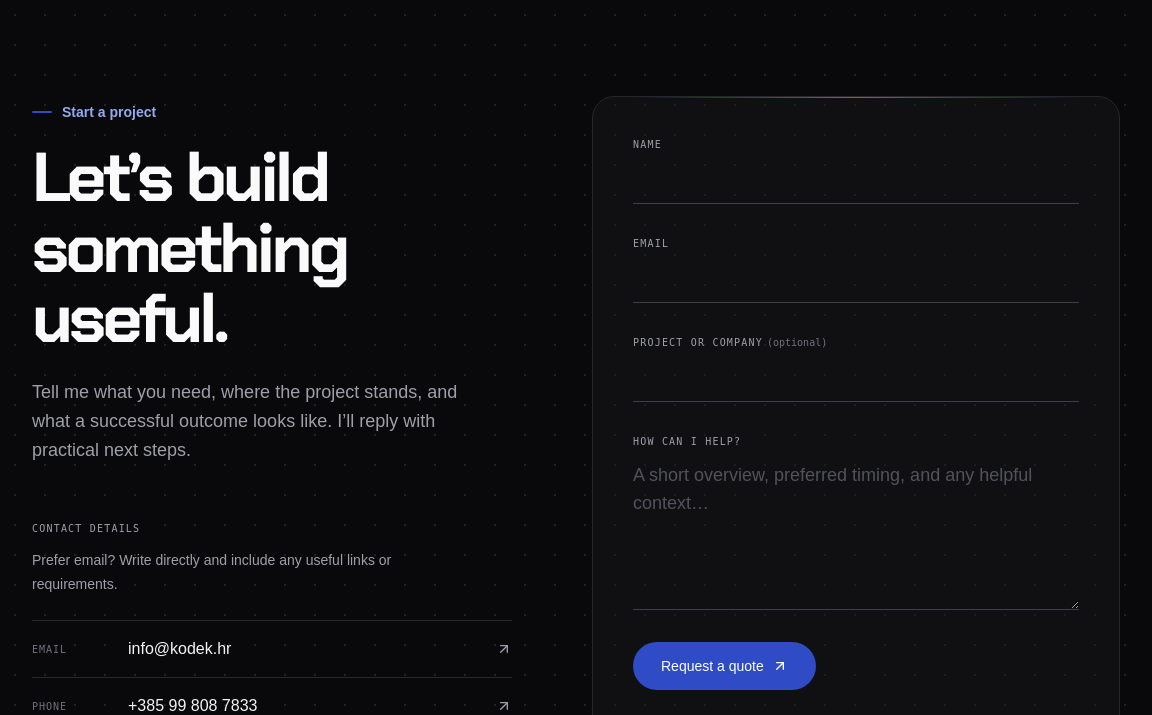
Test: ContactPage client-side validation › reports every required field when the form is submitted empty
Click the button "Request a quote" at (724, 666), box [633, 642, 816, 690]
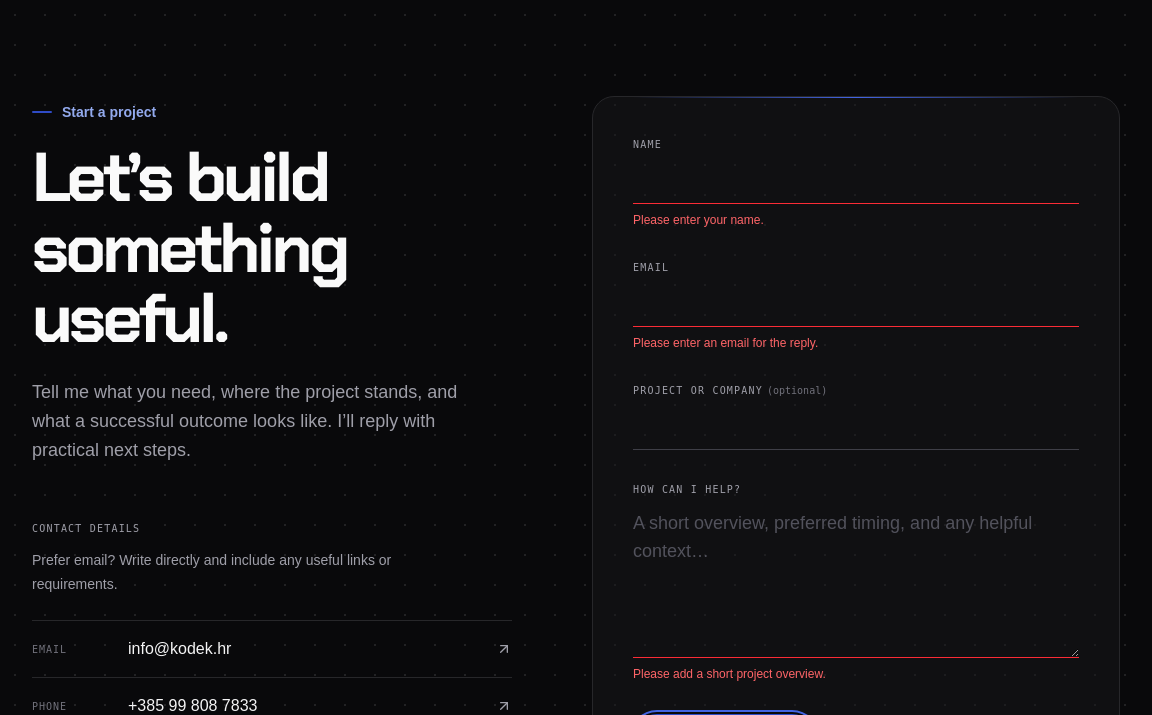
Result: the text "Please enter your name." is shown at [633, 213, 764, 227]
Result: the text "Please enter an email for the reply." is shown at [633, 336, 818, 350]
Result: the text "Please add a short project overview." is shown at [633, 667, 826, 681]
